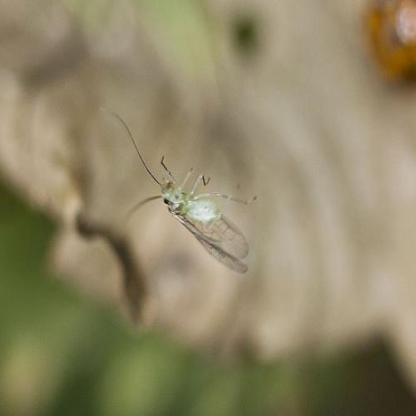aphid: (118, 140, 264, 290)
